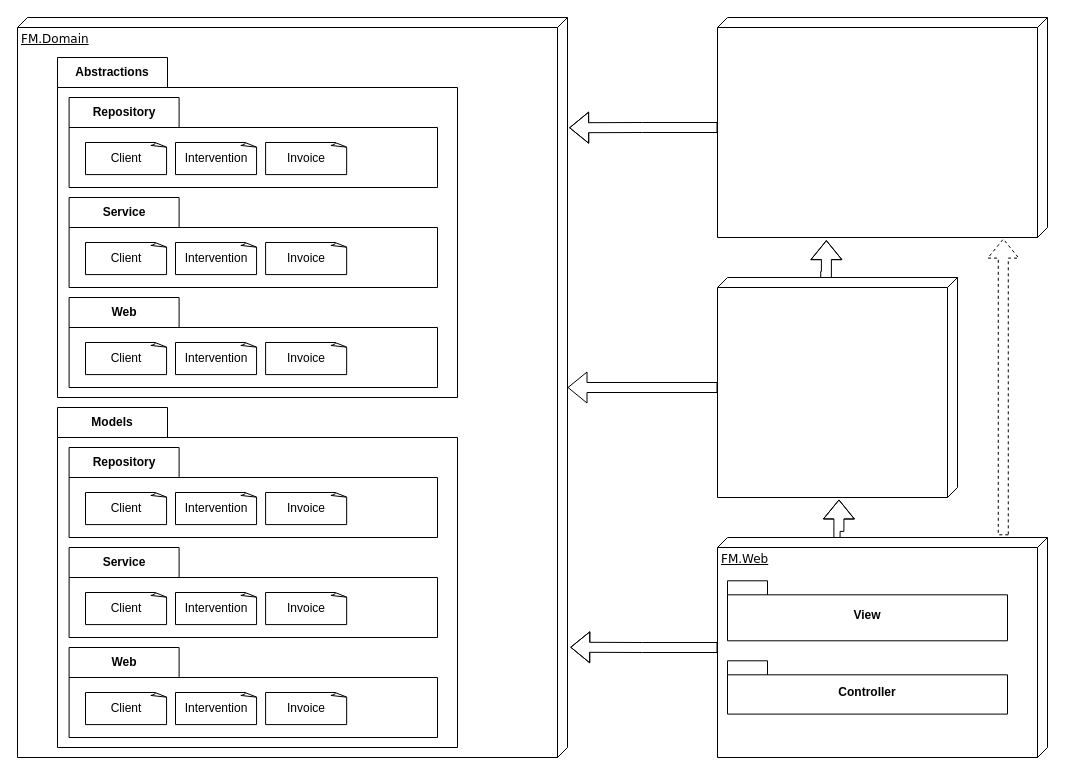
Image size: 1065x775. Some labels were removed from this diagram. The shapes that lost their labels are listed below. From the top down, each one's centre as x and y in pixels, then its label:
At pixel 882 127: "FM.Repository".
At pixel 837 387: "FM.Service".
